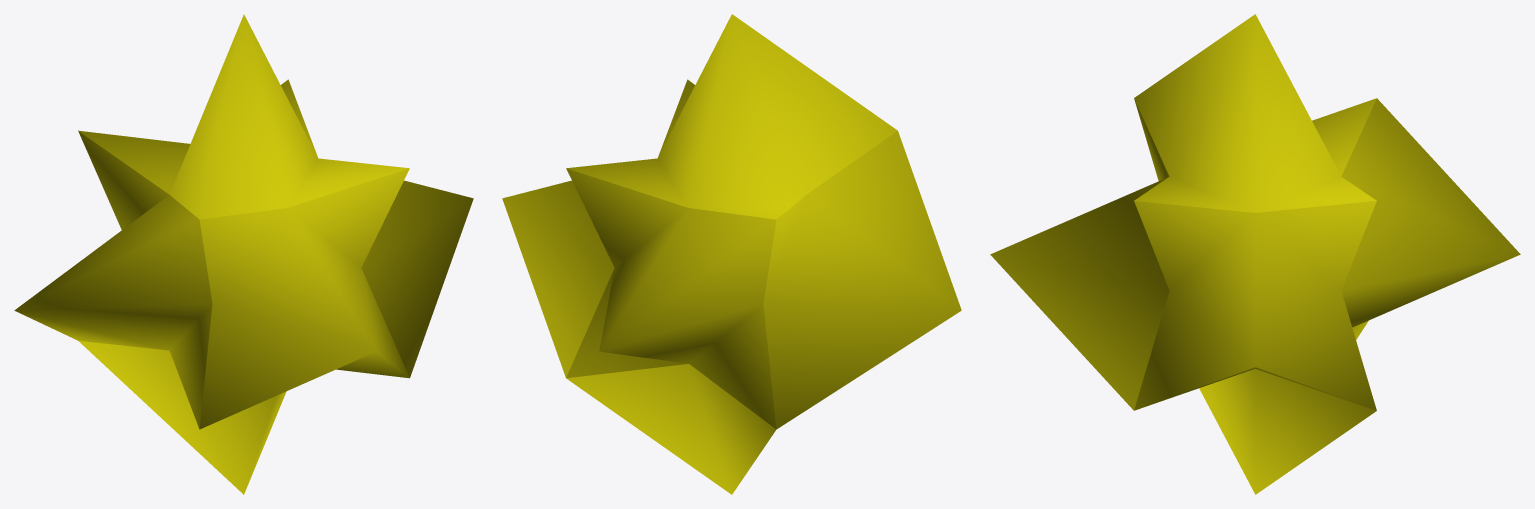
Rendered from uniResource_v01.fbx.
3 views of the same model, side by side, from view 1: azimuth 30°, elevation 25°; view 2: azimuth 150°, elevation 25°; view 3: azimuth 270°, elevation 25° (orthographic).
Parts seen in each view (by area): view 1: pCube1; view 2: pCube1; view 3: pCube1.
Part boxes in pixels (x1,y1,x2,y2): pCube1: (14,14,473,494); pCube1: (502,14,961,494); pCube1: (990,14,1520,494).
Size of the model in its own units: 19.11 by 19.11 by 19.11.
